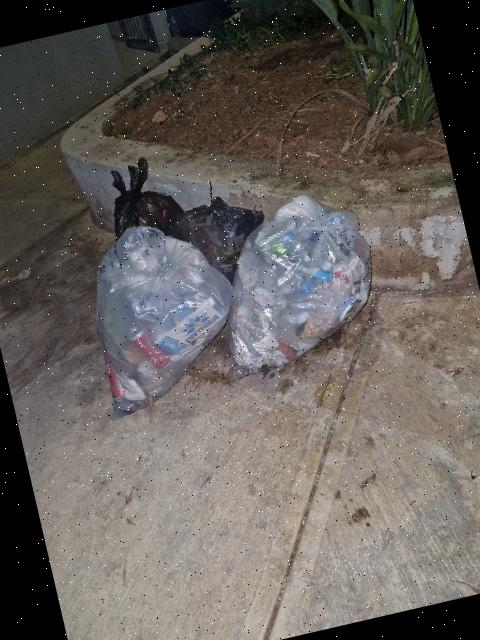Mixed -Black-: (172, 194, 264, 282), (111, 157, 184, 240)
Recyclable -Grey-: (228, 195, 372, 377), (96, 226, 232, 416), (135, 339, 139, 344)
